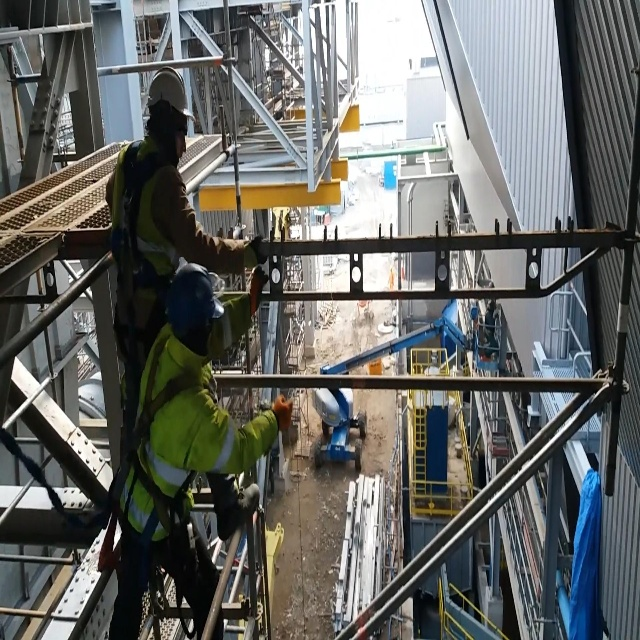Arnes_seguridad: (110, 339, 218, 552), (110, 126, 174, 358)
